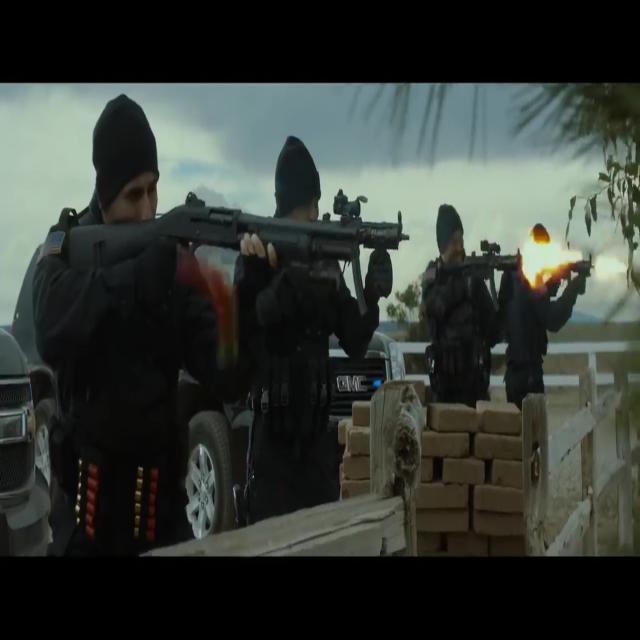Weapon: (56, 131, 412, 343), (431, 200, 532, 312), (217, 452, 288, 530), (65, 451, 112, 550), (132, 443, 172, 554), (552, 240, 603, 308)
